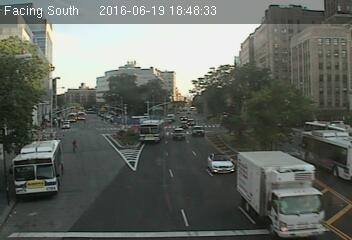neg: (273, 193, 289, 215), (180, 115, 190, 129)
pos: (67, 138, 81, 156)
